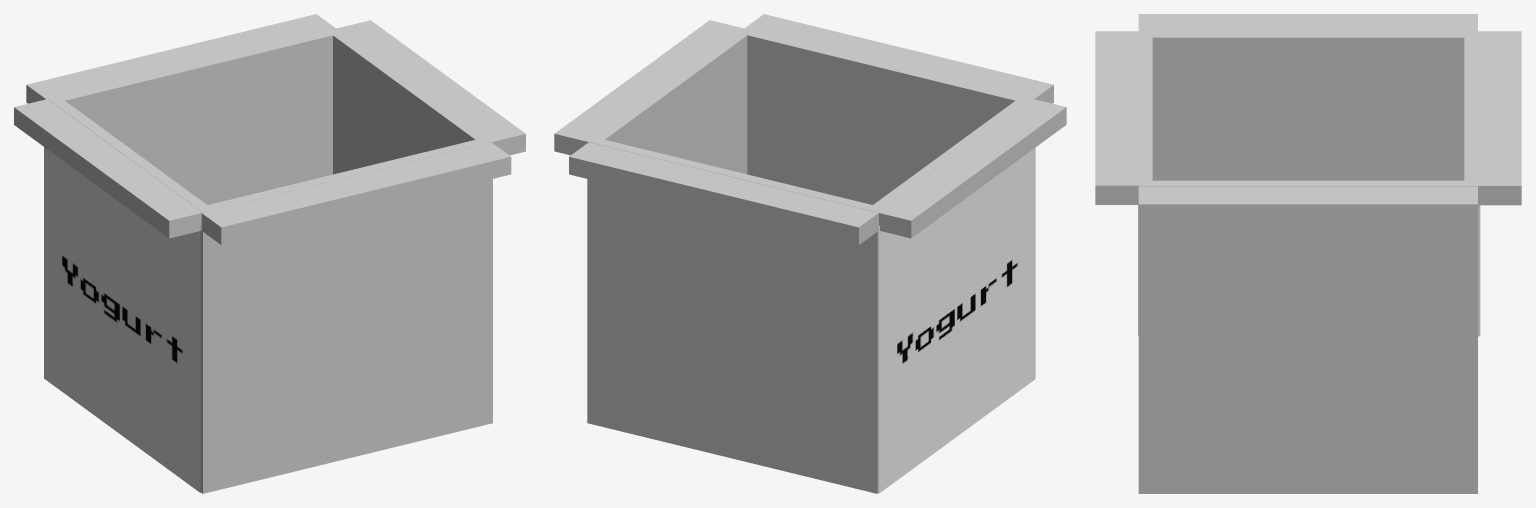
Rendered from yogurt.fbx.
3 renders of one model, left to right at view 1: azimuth 30°, elevation 25°; view 2: azimuth 150°, elevation 25°; view 3: azimuth 270°, elevation 25°, orthographic. The views are drawn at different scales.
Parts seen in each view (by area): view 1: Box124, Plane003, Box127, Box129, Box126, Box128; view 2: Box124, Plane003, Box126, Box129, Box127, Box128; view 3: Box124, Box128, Box126, Box127, Box129, Plane003.
Boxes of the visible parts, <box> form: Box124: <box>48,28,492,493</box>; Plane003: <box>44,147,200,492</box>; Box127: <box>201,142,511,244</box>; Box129: <box>14,99,202,238</box>; Box126: <box>26,14,335,103</box>; Box128: <box>338,20,525,155</box>; Box124: <box>587,28,1032,493</box>; Plane003: <box>879,147,1035,493</box>; Box126: <box>569,142,878,244</box>; Box129: <box>878,99,1066,238</box>; Box127: <box>745,14,1053,103</box>; Box128: <box>554,20,742,155</box>; Box124: <box>1138,31,1477,493</box>; Box128: <box>1138,186,1477,223</box>; Box126: <box>1478,31,1521,205</box>; Box127: <box>1095,31,1138,204</box>; Box129: <box>1138,14,1477,31</box>; Plane003: <box>1138,205,1480,336</box>.
Bounding box in the file's own units: 6.63 × 5 × 6.28.
Materials: 2 (1 with a texture image).
